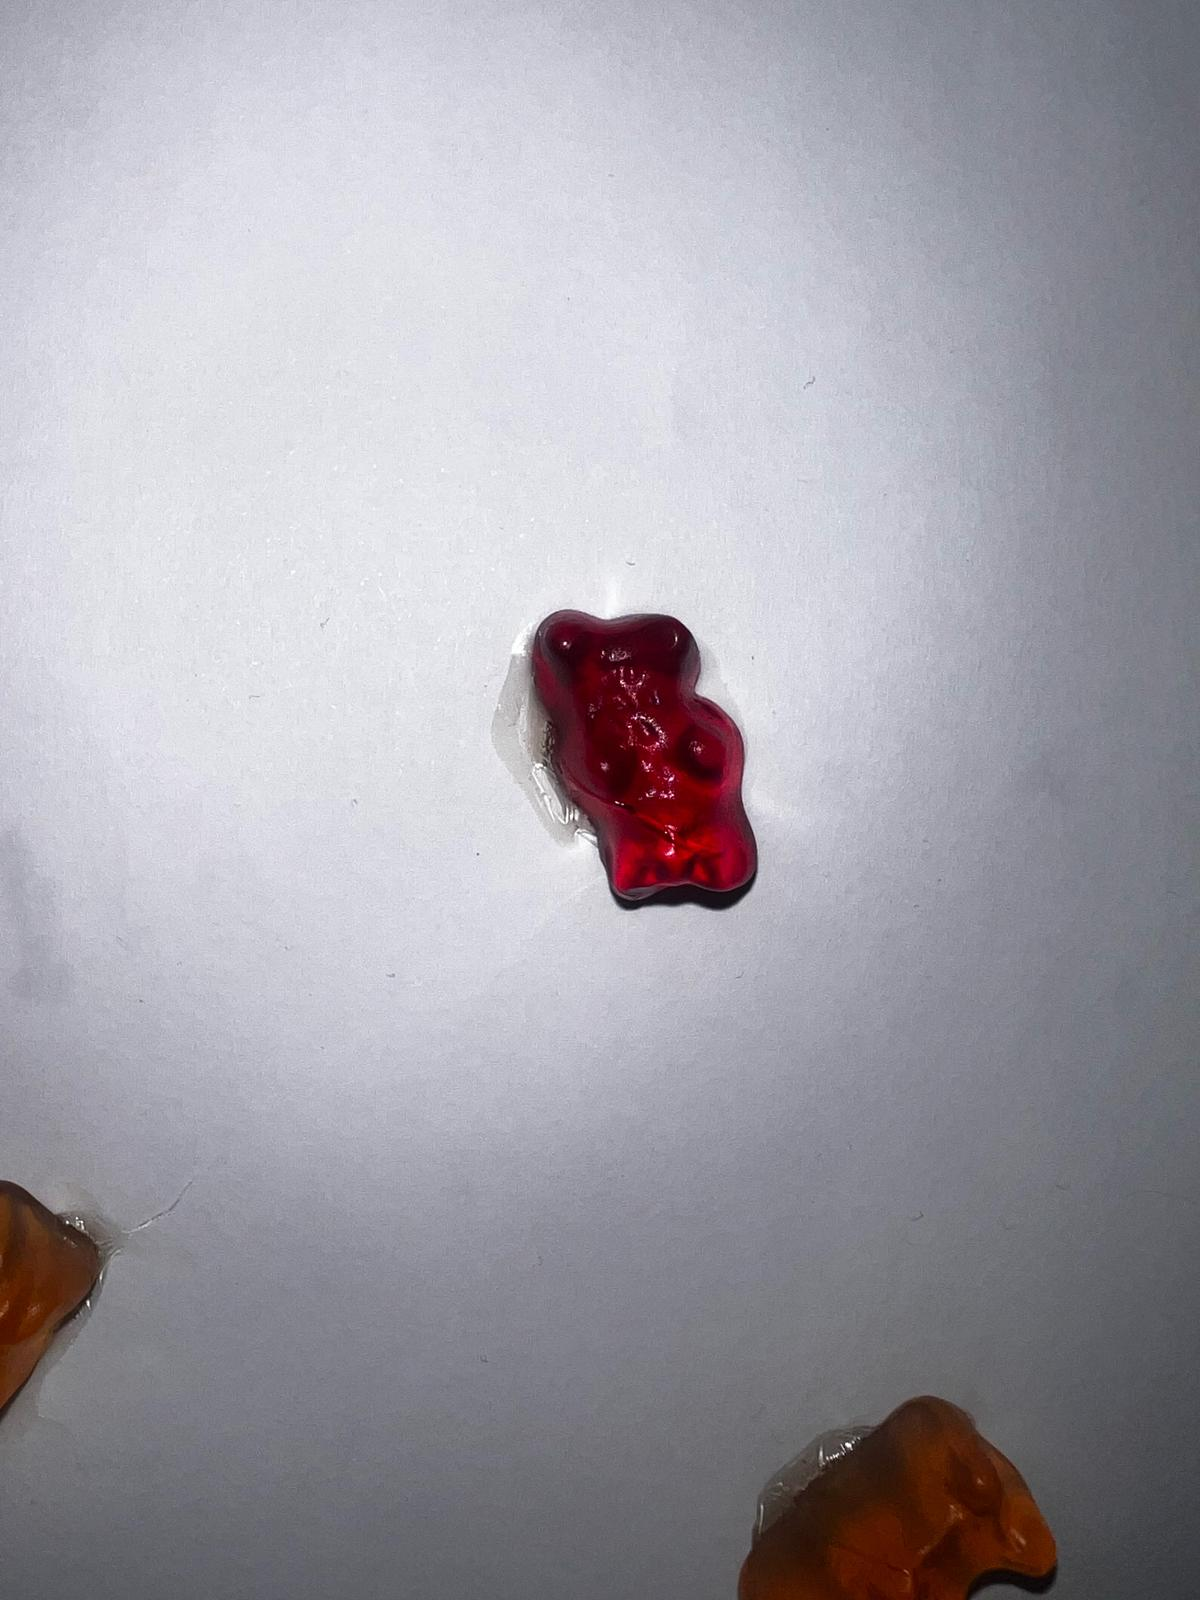gummybear: (521, 605, 768, 918)
